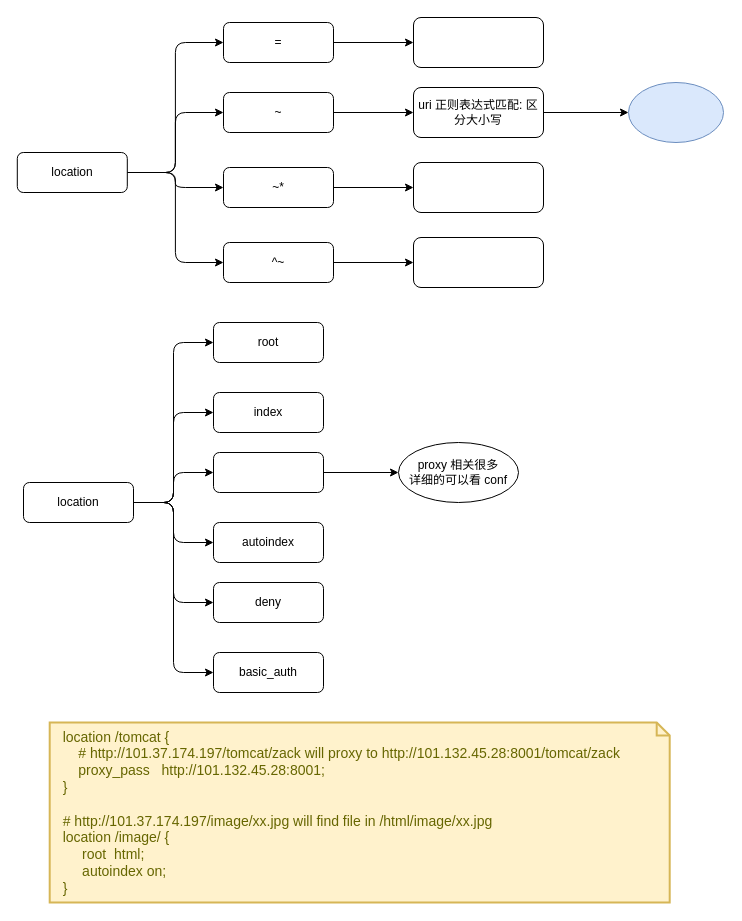
The diagram is 742 pixels wide and 921 high, and some of its shapes have lost their labels. Here are the shapes that lost their labels. From the top down, the box of each, then its label:
(412, 16, 544, 68): uri 完全匹配
(628, 82, 724, 142): ~(.*)\.avi$
(412, 162, 544, 212): uri reg 不区分大小写
(412, 236, 544, 288): 不包含 reg 前的 uri, 找到最高匹配度就执行
(212, 452, 324, 492): proxy_pass
